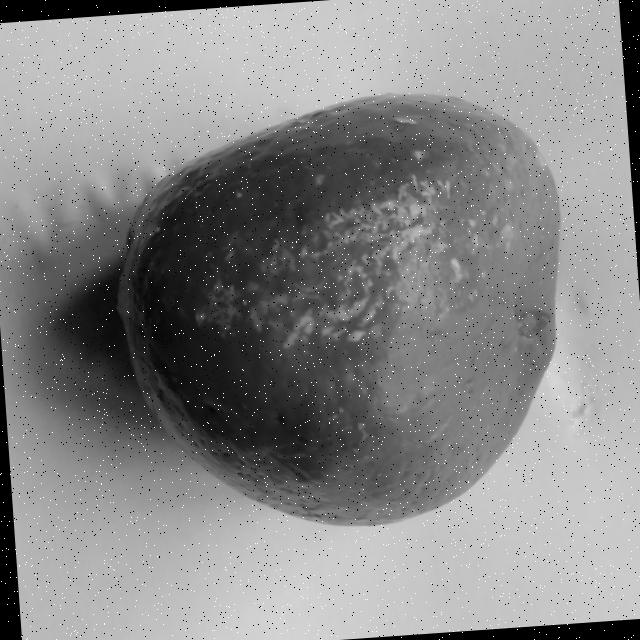Rotten: (98, 82, 581, 540)
